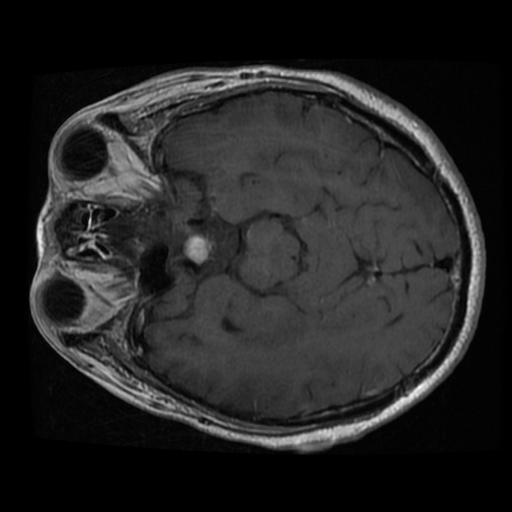pituitary tumour: (182, 235, 209, 262)
